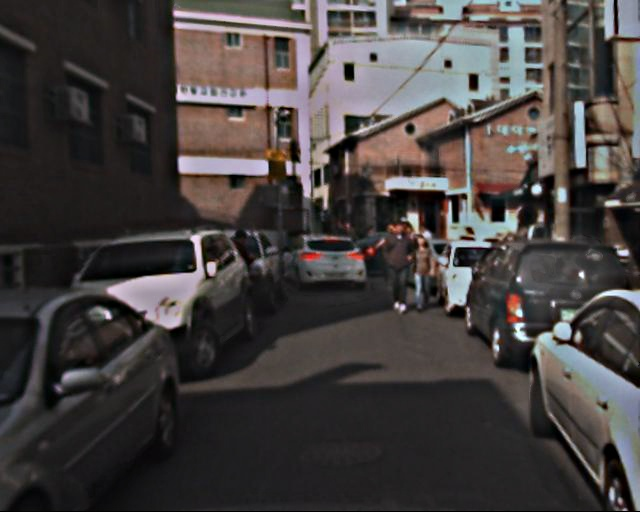person: (381, 221, 418, 312), (225, 230, 259, 314), (406, 237, 437, 312)
